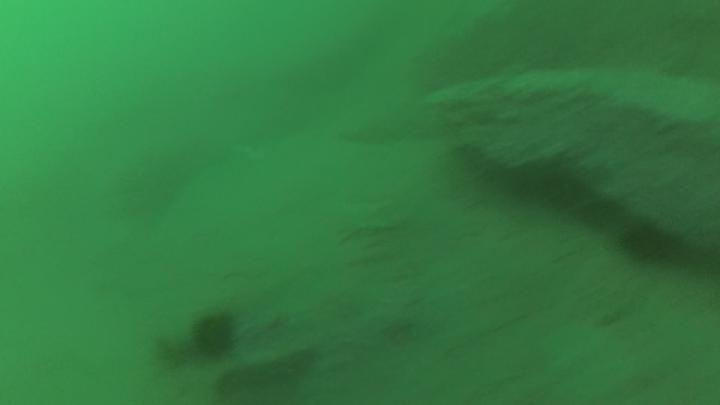echinus: (618, 218, 680, 267), (189, 308, 240, 361)
